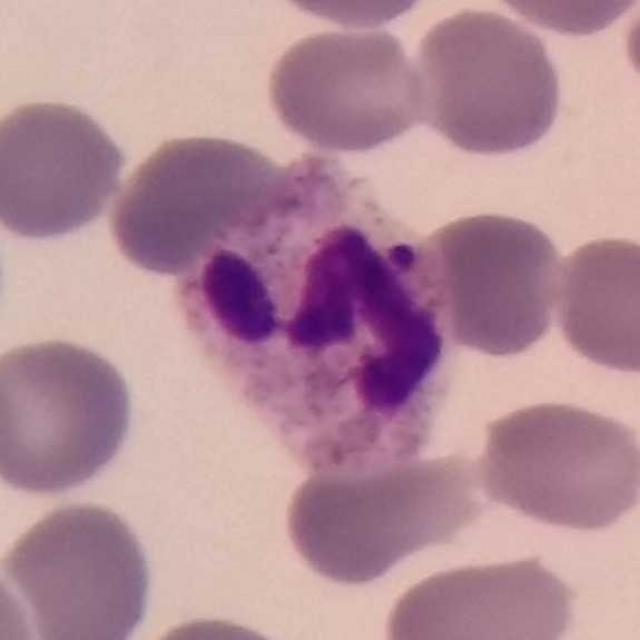Neutrophil: (154, 148, 460, 492)
RBC: (276, 443, 479, 590), (105, 126, 296, 276), (407, 4, 568, 162), (0, 329, 141, 500), (414, 205, 570, 359), (472, 394, 640, 537), (261, 20, 432, 156), (0, 496, 159, 640), (1, 93, 131, 245), (374, 547, 584, 640), (547, 229, 640, 379), (478, 0, 640, 39), (116, 609, 317, 640), (258, 0, 441, 32), (0, 551, 40, 640), (619, 0, 640, 109)
